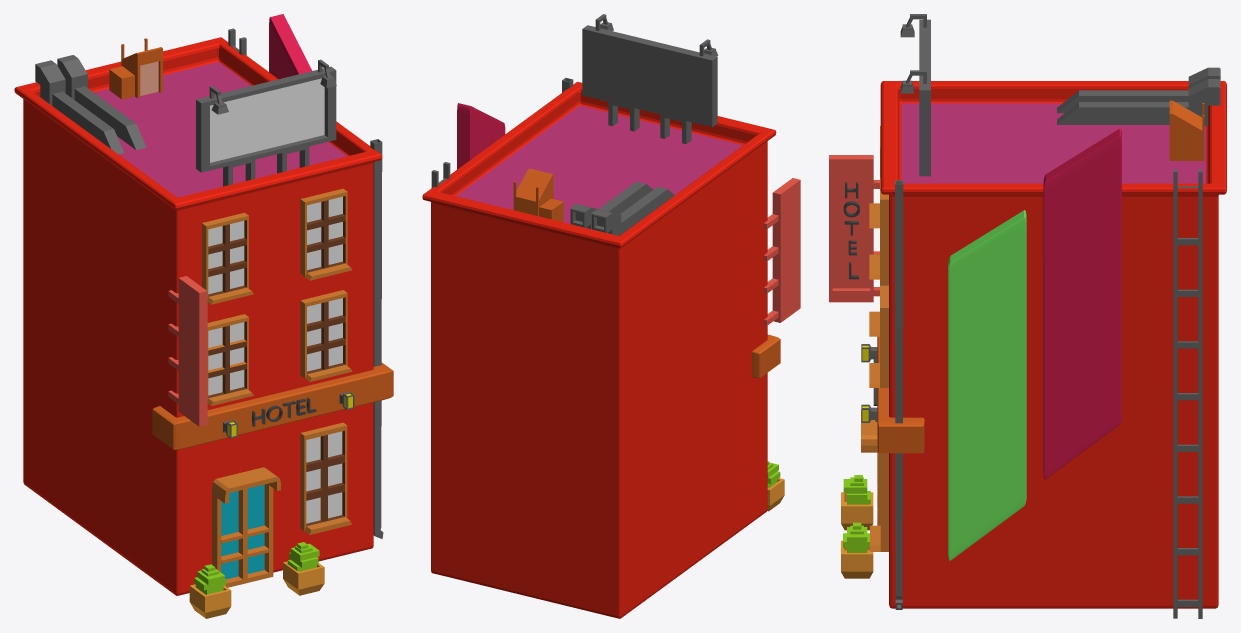
File: MONO_OTEL.fbx
3 views of the same model, side by side, from view 1: azimuth 30°, elevation 25°; view 2: azimuth 150°, elevation 25°; view 3: azimuth 270°, elevation 25° (orthographic). The views are drawn at different scales.
Visible parts, largest first — view 1: Cube, Cube.002, Cube.001, Cube.013, Cube.014, Cube.015, Cube.019, Cube.007, Cube.006, Cube.003, Cube.004, Cube.005 (+4 smaller); view 2: Cube, Cube.002, Cube.007, Cube.012, Cube.005, Cube.003, Cube.004, Cube.014, Cube.016; view 3: Cube, Cube.012, Cube.011, Cube.007, Cube.004, Cube.006, Cube.002, Cube.008, Cube.009, Cube.014, Cube.003, Cube.005 (+7 smaller).
Part boxes in pixels (x1,y1,x2,y2): Cube: [14, 37, 382, 595]; Cube.002: [196, 59, 336, 186]; Cube.001: [202, 188, 352, 304]; Cube.013: [207, 290, 352, 405]; Cube.014: [152, 362, 393, 449]; Cube.015: [212, 467, 280, 587]; Cube.019: [300, 422, 351, 534]; Cube.007: [168, 276, 207, 426]; Cube.006: [370, 139, 383, 538]; Cube.003: [35, 60, 124, 154]; Cube.004: [57, 55, 146, 149]; Cube.005: [109, 38, 162, 99]; Cube: [422, 81, 776, 618]; Cube.002: [582, 14, 718, 144]; Cube.007: [763, 178, 800, 325]; Cube.012: [457, 103, 505, 169]; Cube.005: [513, 168, 563, 222]; Cube.003: [592, 187, 674, 235]; Cube.004: [570, 181, 652, 229]; Cube.014: [752, 334, 780, 378]; Cube.016: [767, 461, 784, 511]; Cube: [880, 81, 1226, 608]; Cube.012: [1043, 128, 1121, 479]; Cube.011: [948, 210, 1026, 560]; Cube.007: [829, 155, 879, 302]; Cube.004: [1057, 79, 1220, 126]; Cube.006: [895, 180, 903, 609]; Cube.002: [900, 14, 930, 176]; Cube.008: [1173, 169, 1177, 618]; Cube.009: [1198, 169, 1202, 618]; Cube.014: [877, 336, 924, 453]; Cube.003: [1057, 67, 1220, 113]; Cube.005: [1169, 100, 1204, 160].
Size of the model in its own units: 57.68 by 123 by 83.32.
